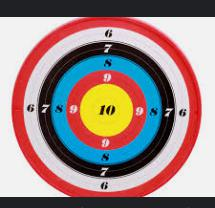bulls eye: (14, 22, 203, 196)
